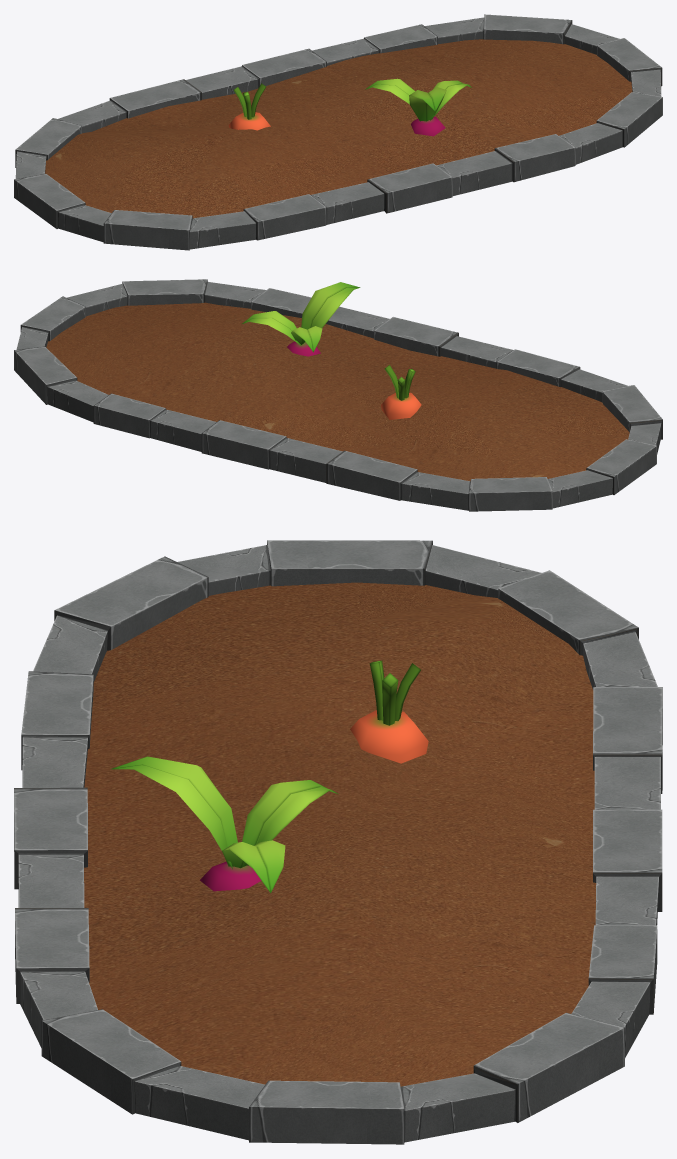
File: bg_soil.FBX
The picture shows the model from 3 angles, top to bottom: view 1: azimuth 30°, elevation 25°; view 2: azimuth 150°, elevation 25°; view 3: azimuth 270°, elevation 25°; orthographic projection. The views are drawn at different scales.
Parts seen in each view (by area): view 1: bg_soil, bg_vege1, bg_carrot; view 2: bg_soil, bg_vege1, bg_carrot; view 3: bg_soil, bg_vege1, bg_carrot.
Boxes of the visible parts, x1=… form: bg_soil: x1=14, y1=14, x2=662, y2=250; bg_vege1: x1=365, y1=78, x2=471, y2=136; bg_carrot: x1=228, y1=83, x2=270, y2=130; bg_soil: x1=14, y1=279, x2=662, y2=511; bg_vege1: x1=242, y1=282, x2=360, y2=356; bg_carrot: x1=381, y1=365, x2=421, y2=419; bg_soil: x1=14, y1=540, x2=662, y2=1144; bg_vege1: x1=110, y1=756, x2=338, y2=892; bg_carrot: x1=350, y1=660, x2=428, y2=763.
Bounding box in the file's own units: 49.72 × 6.62 × 23.98.
